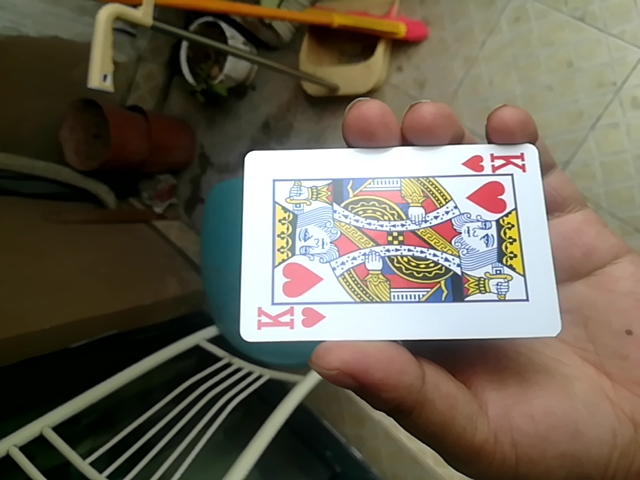hx k: (233, 140, 554, 341)
